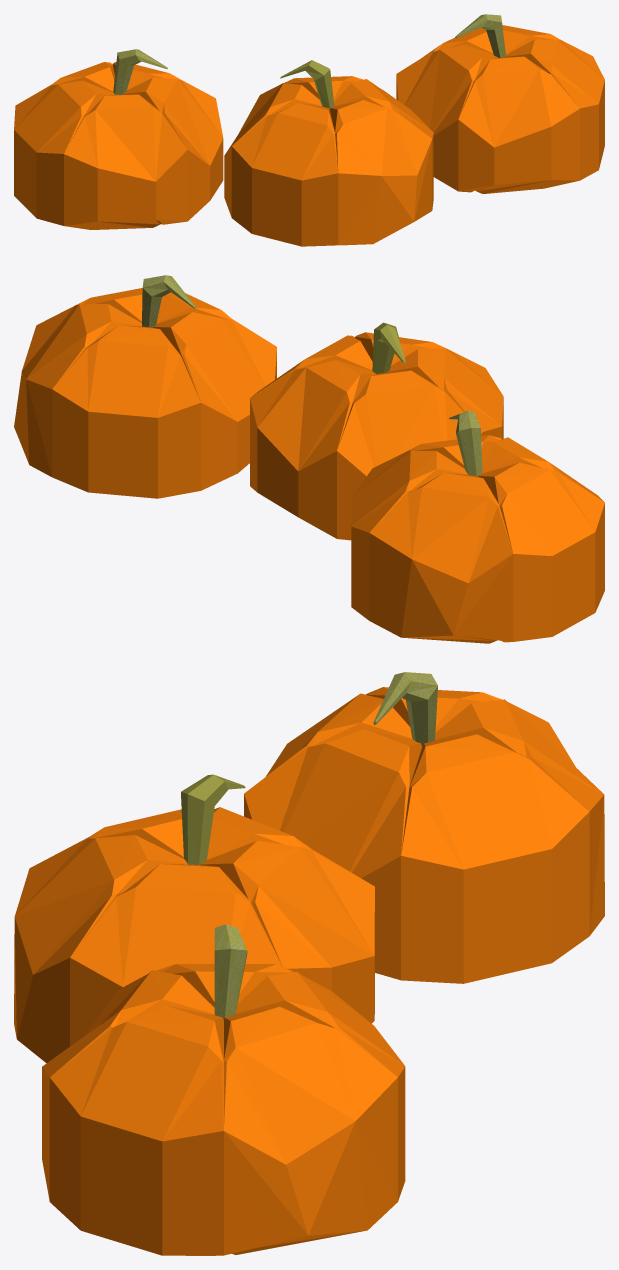
The model's file is Pumpkins.fbx.
3 renders of one model, top to bottom at view 1: azimuth 30°, elevation 25°; view 2: azimuth 150°, elevation 25°; view 3: azimuth 270°, elevation 25°, orthographic. The views are drawn at different scales.
Parts seen in each view (by area): view 1: Group15, Group3, Tikva4, Group11, Tikva5, Group4, Group16, Tikva1, Group10, Tikva3, Group18, Group17 (+6 smaller); view 2: Tikva2, Group17, Tikva5, Group9, Group4, Group10, Group5, Tikva6, Tikva4, Group15, Tikva3, Group18 (+6 smaller); view 3: Tikva6, Tikva1, Group5, Group16, Tikva3, Group11, Group9, Group17, Tikva2, Group3, Group15, Group12 (+6 smaller).
Boxes of the visible parts, x1=… form: Group15: x1=64, y1=94, x2=187, y2=229; Group3: x1=458, y1=56, x2=579, y2=193; Tikva4: x1=231, y1=103, x2=338, y2=246; Group11: x1=330, y1=100, x2=432, y2=245; Tikva5: x1=14, y1=80, x2=114, y2=225; Group4: x1=396, y1=45, x2=497, y2=192; Group16: x1=123, y1=77, x2=223, y2=224; Tikva1: x1=506, y1=39, x2=604, y2=180; Group10: x1=224, y1=83, x2=322, y2=216; Tikva3: x1=334, y1=79, x2=433, y2=209; Group18: x1=113, y1=49, x2=167, y2=94; Group17: x1=22, y1=62, x2=114, y2=101; Tikva2: x1=52, y1=325, x2=200, y2=498; Group17: x1=369, y1=473, x2=513, y2=643; Tikva5: x1=478, y1=462, x2=604, y2=642; Group9: x1=250, y1=360, x2=375, y2=538; Group4: x1=153, y1=312, x2=276, y2=490; Group10: x1=337, y1=370, x2=482, y2=540; Group5: x1=14, y1=304, x2=141, y2=476; Tikva6: x1=351, y1=451, x2=467, y2=620; Tikva4: x1=387, y1=348, x2=503, y2=439; Group15: x1=482, y1=437, x2=603, y2=501; Tikva3: x1=252, y1=335, x2=372, y2=396; Group18: x1=449, y1=410, x2=482, y2=476; Tikva6: x1=401, y1=734, x2=589, y2=983; Tikva1: x1=49, y1=1006, x2=223, y2=1255; Group5: x1=224, y1=1006, x2=397, y2=1255; Group16: x1=244, y1=729, x2=422, y2=980; Tikva3: x1=70, y1=864, x2=282, y2=1046; Group11: x1=14, y1=835, x2=187, y2=1063; Group9: x1=200, y1=840, x2=374, y2=1023; Group17: x1=435, y1=699, x2=604, y2=935; Tikva2: x1=235, y1=972, x2=405, y2=1201; Group3: x1=42, y1=970, x2=214, y2=1200; Group15: x1=246, y1=693, x2=412, y2=791; Group12: x1=181, y1=774, x2=245, y2=864.
Bounding box in the file's own units: 836 × 256 × 488.
